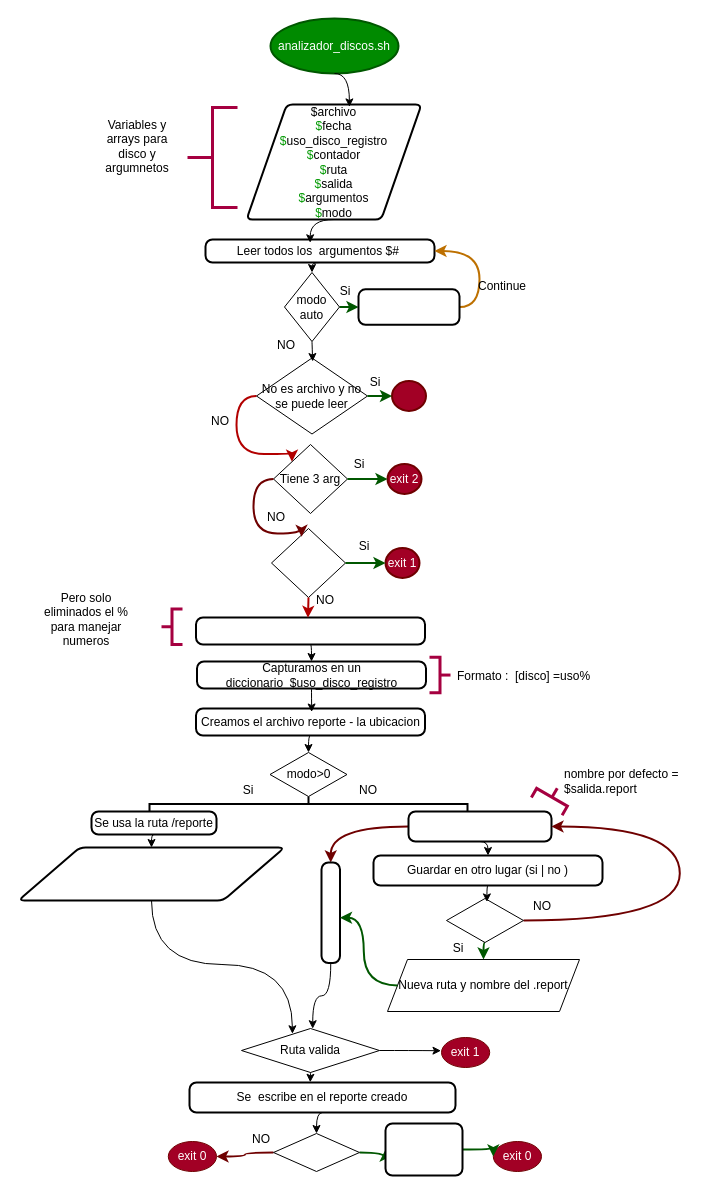
The diagram is 725 pixels wide and 1193 high, and some of its shapes have lost their labels. Each missing label, with the box of its shape:
exit 3: (390, 380, 426, 412)
leer ?: (272, 1132, 360, 1172)
Leyendo el archivo con variables (servidor - disco - tipo - tamaño - uso): (194, 616, 426, 645)
Modo cambia (modo ++): (357, 288, 460, 325)
No tiene argumentos: (270, 528, 346, 598)
ruta default en temporal: (407, 810, 552, 842)
Se crea reporte: (320, 861, 340, 964)
Se imprime el reporte stdout: (384, 1122, 463, 1176)
Si?: (446, 898, 524, 942)
Ubicacion = ./reporte/$salida.report: (17, 846, 285, 901)
